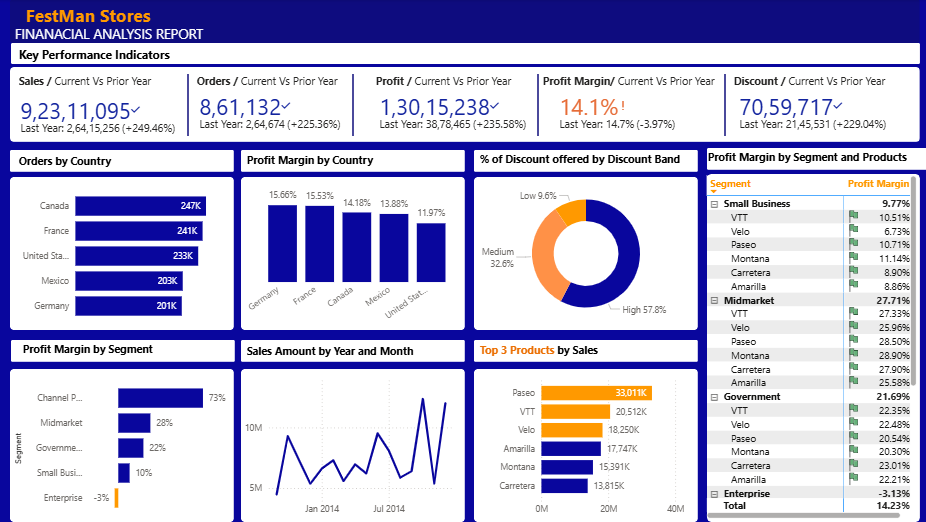

The dashboard page shown, as its layout file describes it:
{"tool":"powerbi","page":{"name":"FestMan Stores Dashboard","canvas":[1280,720],"ordinal":0},"visuals":[{"type":"shape","box":[977.2,240.9,293.2,479],"z":0},{"type":"shape","box":[17.9,0,1252.5,60.6],"z":1000},{"type":"shape","box":[19.3,60.6,1251.1,28.9],"z":2000},{"type":"shape","box":[17.9,93.6,1252.5,103.2],"z":3000},{"type":"shape","box":[17.9,245,308.3,210.6],"z":4000},{"type":"shape","box":[19.3,469.3,308.3,30.3],"z":5000},{"type":"shape","box":[17.9,207.8,308.3,30.3],"z":6000},{"type":"shape","box":[17.9,509.2,308.3,210.6],"z":7000},{"type":"shape","box":[656.5,245,308.3,210.6],"z":8000},{"type":"shape","box":[335.8,245,308.3,210.6],"z":9000},{"type":"shape","box":[656.5,509.2,308.3,210.6],"z":10000},{"type":"shape","box":[335.8,509.2,308.3,210.6],"z":11000},{"type":"shape","box":[335.8,469.3,308.3,30.3],"z":12000},{"type":"shape","box":[656.5,469.3,308.3,30.3],"z":13000},{"type":"shape","box":[335.8,207.8,308.3,30.3],"z":14000},{"type":"shape","box":[656.5,207.8,308.3,30.3],"z":15000},{"type":"shape","box":[977.2,205.1,302.8,30.3],"z":16000},{"type":"textbox","box":[19.3,30.3,316.6,42.7],"z":17000},{"type":"textbox","box":[34.4,0,291.8,44],"z":18000},{"type":"textbox","box":[24.8,60.6,228.5,33],"z":19000},{"type":"kpi","fields":{"Indicator":["Analysis.Sales Amount"],"TrendLine":["Date Table.Year"],"Goal":["Analysis.Sales Amount LY"]},"box":[19.3,126.6,250.5,70.2],"z":20000},{"type":"textbox","box":[24.8,97.7,228.5,33],"z":21000},{"type":"shape","box":[225.7,103.2,74.3,85.3],"z":22000},{"type":"kpi","fields":{"TrendLine":["Date Table.Year"],"Indicator":["Analysis.Orders"],"Goal":["Analysis.Orders LY"]},"box":[265.6,121.1,250.5,70.2],"z":23000},{"type":"kpi","fields":{"TrendLine":["Date Table.Year"],"Indicator":["Analysis.Profit"],"Goal":["Analysis.Profit LY"]},"box":[513.4,121.1,250.5,70.2],"z":24000},{"type":"kpi","fields":{"TrendLine":["Date Table.Year"],"Indicator":["Analysis.Profit Margin"],"Goal":["Analysis.Profit Margin LY"]},"box":[761.1,121.1,250.5,70.2],"z":25000},{"type":"kpi","fields":{"TrendLine":["Date Table.Year"],"Indicator":["Analysis.Discount Offered"],"Goal":["Analysis.Discount Offered LY"]},"box":[1008.9,121.1,250.5,70.2],"z":26000},{"type":"textbox","box":[269.8,97.7,228.5,33],"z":27000},{"type":"textbox","box":[516.1,97.7,228.5,33],"z":28000},{"type":"textbox","box":[746,97.7,265.6,33],"z":29000},{"type":"textbox","box":[1008.9,97.7,228.5,33],"z":30000},{"type":"shape","box":[964.8,103.2,74.3,85.3],"z":31000},{"type":"shape","box":[707.4,103.2,74.3,85.3],"z":32000},{"type":"shape","box":[452.8,103.2,74.3,85.3],"z":33000},{"type":"barChart","fields":{"Category":["Financials.Country"],"Y":["Analysis.Orders"]},"box":[17.9,245,309.7,210.6],"z":34000},{"type":"textbox","box":[24.8,207.8,228.5,33],"z":35000},{"type":"clusteredColumnChart","fields":{"Y":["Analysis.Profit Margin"],"Category":["Financials.Country"]},"box":[335.8,245,308.3,210.6],"z":36000},{"type":"textbox","box":[338.6,206.5,228.5,33],"z":37000},{"type":"donutChart","fields":{"Category":["Financials.Discount Band"],"Y":["Analysis.Discount Offered"]},"box":[655.1,245,311.1,210.6],"z":38000},{"type":"textbox","box":[659.3,205.1,306.9,33],"z":39000},{"type":"barChart","fields":{"Category":["Financials.Segment"],"Y":["Analysis.Profit Margin"]},"box":[19.3,509.2,306.9,210.6],"z":40000},{"type":"lineChart","fields":{"Category":["Date Table.Date.Variation.Date Hierarchy.Year","Date Table.Date.Variation.Date Hierarchy.Month"],"Y":["Analysis.Sales Amount"]},"box":[335.8,509.2,308.3,210.6],"z":41000},{"type":"barChart","fields":{"Y":["Analysis.Sales Amount"],"Category":["Financials.Product"]},"box":[681.3,509.2,283.5,210.6],"z":42000},{"type":"textbox","box":[30.3,466.6,228.5,33],"z":43000},{"type":"textbox","box":[338.6,469.3,261.5,33],"z":44000},{"type":"textbox","box":[659.3,468,188.6,33],"z":45000},{"type":"pivotTable","fields":{"Rows":["Financials.Segment","Financials.Product"],"Values":["Analysis.Profit Margin"]},"box":[971.7,238.1,298.7,481.7],"z":46000},{"type":"textbox","box":[973.1,202.3,306.9,33],"z":46001}]}

Visuals, with their boxes in screenshot pixels (x1, y1, x2, y2), scaled from the page's 1280x720 canvas onto the 926x522 screenshot:
shape: crop(707, 175, 919, 521)
shape: crop(13, 0, 919, 44)
shape: crop(14, 44, 919, 65)
shape: crop(13, 68, 919, 143)
shape: crop(13, 178, 236, 330)
shape: crop(14, 340, 237, 362)
shape: crop(13, 151, 236, 173)
shape: crop(13, 369, 236, 521)
shape: crop(475, 178, 698, 330)
shape: crop(243, 178, 466, 330)
shape: crop(475, 369, 698, 521)
shape: crop(243, 369, 466, 521)
shape: crop(243, 340, 466, 362)
shape: crop(475, 340, 698, 362)
shape: crop(243, 151, 466, 173)
shape: crop(475, 151, 698, 173)
shape: crop(707, 149, 925, 171)
textbox: crop(14, 22, 243, 53)
textbox: crop(25, 0, 236, 32)
textbox: crop(18, 44, 183, 68)
kpi - Analysis.Sales Amount x Date Table.Year: crop(14, 92, 195, 143)
textbox: crop(18, 71, 183, 95)
shape: crop(163, 75, 217, 137)
kpi - Date Table.Year x Analysis.Orders: crop(192, 88, 373, 139)
kpi - Date Table.Year x Analysis.Profit: crop(371, 88, 553, 139)
kpi - Date Table.Year x Analysis.Profit Margin: crop(551, 88, 732, 139)
kpi - Date Table.Year x Analysis.Discount Offered: crop(730, 88, 911, 139)
textbox: crop(195, 71, 360, 95)
textbox: crop(373, 71, 539, 95)
textbox: crop(540, 71, 732, 95)
textbox: crop(730, 71, 895, 95)
shape: crop(698, 75, 752, 137)
shape: crop(512, 75, 566, 137)
shape: crop(328, 75, 381, 137)
barChart - Financials.Country x Analysis.Orders: crop(13, 178, 237, 330)
textbox: crop(18, 151, 183, 175)
clusteredColumnChart - Analysis.Profit Margin x Financials.Country: crop(243, 178, 466, 330)
textbox: crop(245, 150, 410, 174)
donutChart - Financials.Discount Band x Analysis.Discount Offered: crop(474, 178, 699, 330)
textbox: crop(477, 149, 699, 173)
barChart - Financials.Segment x Analysis.Profit Margin: crop(14, 369, 236, 521)
lineChart - Date Table.Date.Variation.Date Hierarchy.Year x Date Table.Date.Variation.Date Hierarchy.Month: crop(243, 369, 466, 521)
barChart - Analysis.Sales Amount x Financials.Product: crop(493, 369, 698, 521)
textbox: crop(22, 338, 187, 362)
textbox: crop(245, 340, 434, 364)
textbox: crop(477, 339, 613, 363)
pivotTable - Financials.Segment x Financials.Product: crop(703, 173, 919, 521)
textbox: crop(704, 147, 925, 171)
